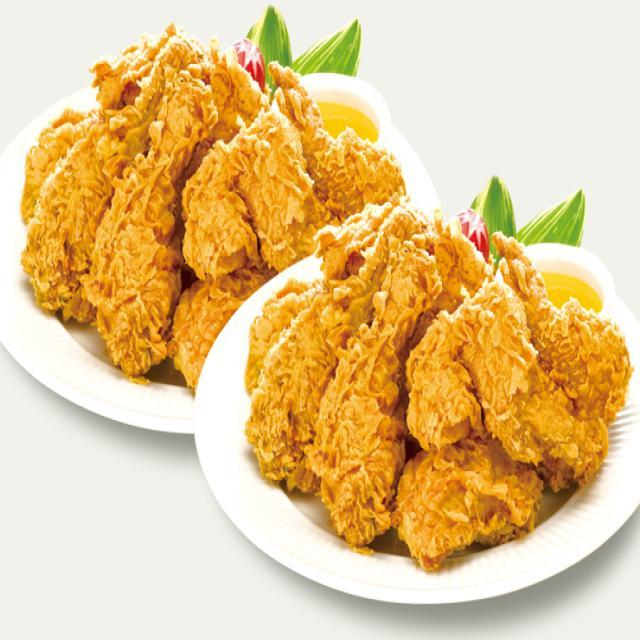Frango: (243, 193, 626, 569), (29, 18, 302, 361)
